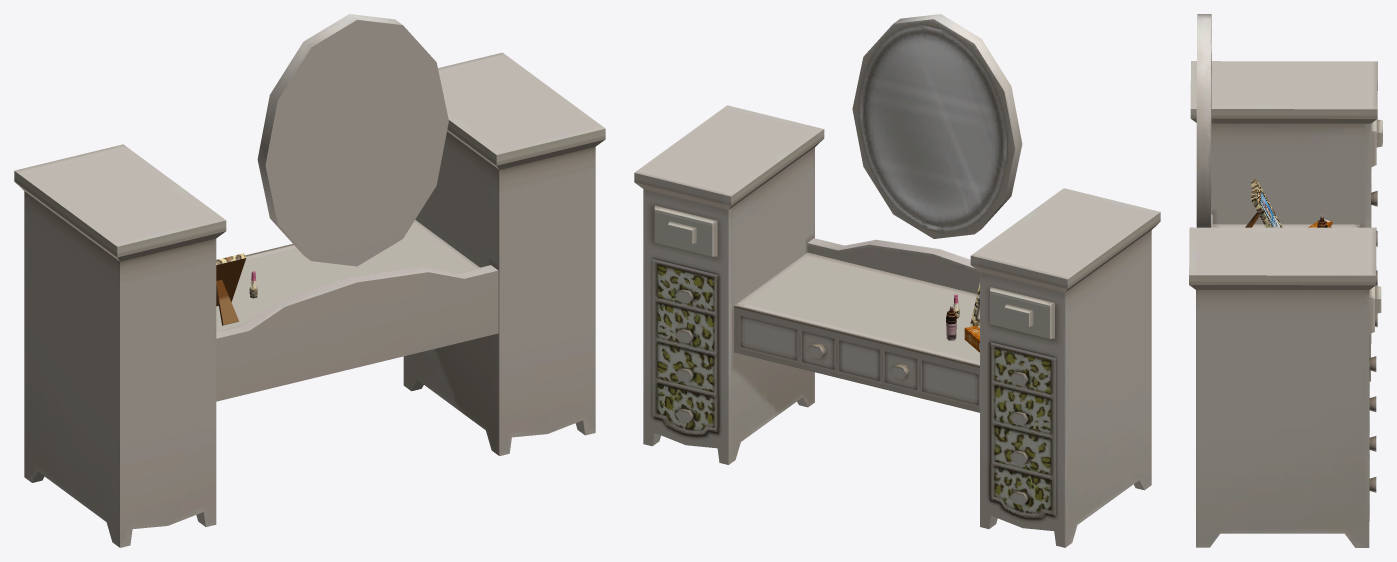
File: furni_0200094_01.FBX
The picture shows the model from 3 angles, left to right: view 1: azimuth 30°, elevation 25°; view 2: azimuth 150°, elevation 25°; view 3: azimuth 270°, elevation 25°; orthographic projection. The views are drawn at different scales.
Visible parts, largest first — view 1: furni_0200094_01; view 2: furni_0200094_01; view 3: furni_0200094_01.
Boxes of the visible parts, x1,y1,x2,y2 form: furni_0200094_01: (14,14,605,547); furni_0200094_01: (634,14,1160,547); furni_0200094_01: (1189,14,1382,547).
Size of the model in its own units: 234 by 216 by 89.37.
1 material, 1 textured.
